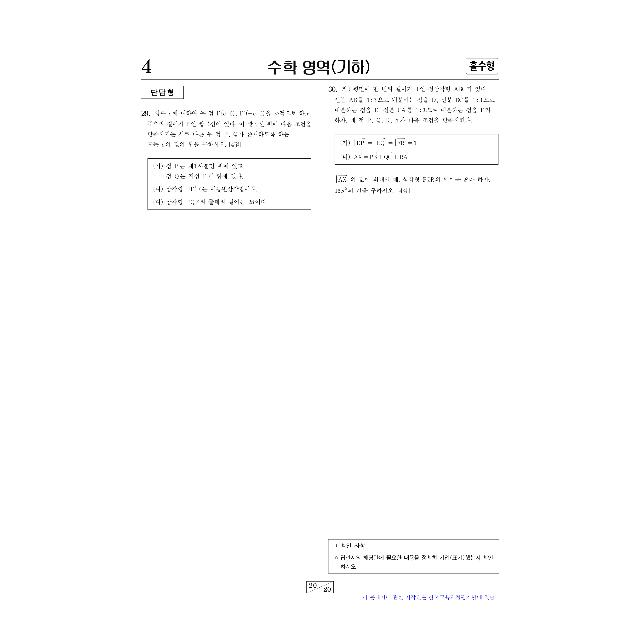short: (323, 82, 511, 212), (134, 104, 316, 224)
